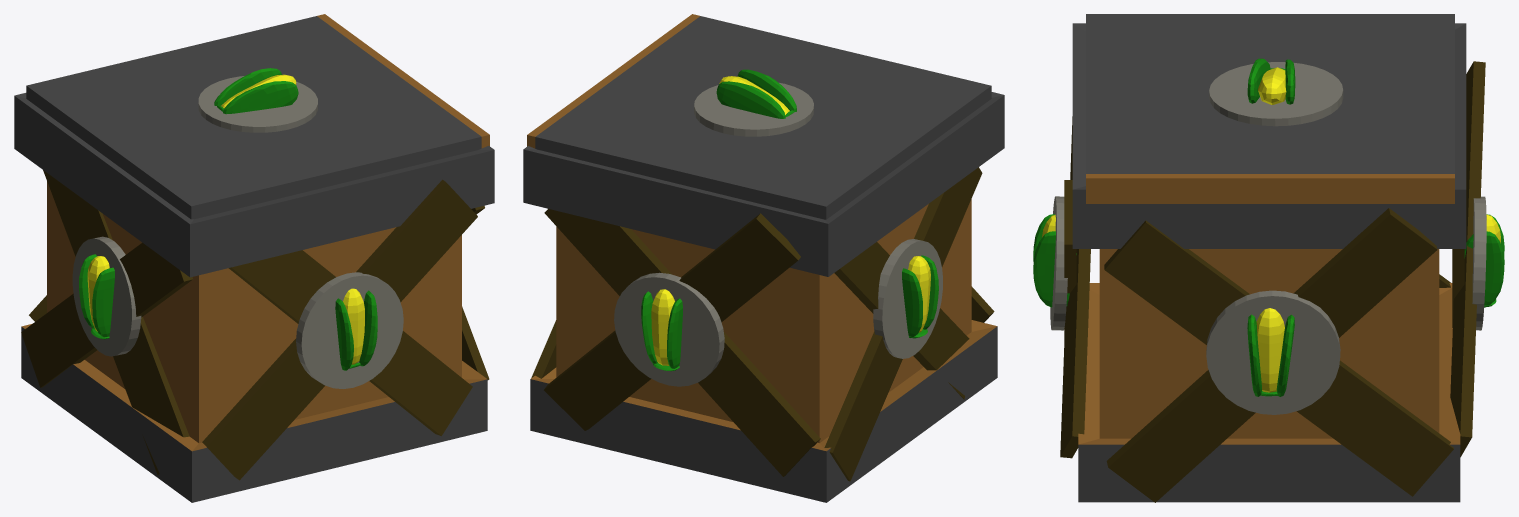
The model's file is crate_corn_full.fbx.
3 views of the same model, side by side, from view 1: azimuth 30°, elevation 25°; view 2: azimuth 150°, elevation 25°; view 3: azimuth 270°, elevation 25° (orthographic). The views are drawn at different scales.
Parts seen in each view (by area): view 1: Crate, Lid, Cube.004, Cube.003, Cylinder.001, Cube.005, Cube.006, Cylinder.003, Cylinder.004, Cube.010, Cube.021, Cube.013 (+6 smaller); view 2: Crate, Lid, Cube.001, Cube.002, Cube.005, Cylinder, Cylinder.003, Cube.006, Cylinder.004, Cube.009, Cube.014, Cube.020 (+6 smaller); view 3: Crate, Lid, Cube.008, Cube.007, Cylinder.002, Cube.002, Cylinder.004, Cube.003, Cube.023, Cylinder, Cylinder.001, Cube.011 (+7 smaller).
Part boxes in pixels (x1=…): Crate: x1=14, y1=93, x2=494, y2=502; Lid: x1=26, y1=14, x2=489, y2=219; Cube.004: x1=202, y1=179, x2=477, y2=480; Cube.003: x1=228, y1=250, x2=472, y2=435; Cylinder.001: x1=296, y1=272, x2=403, y2=388; Cube.005: x1=21, y1=242, x2=192, y2=387; Cube.006: x1=43, y1=170, x2=189, y2=474; Cylinder.003: x1=72, y1=236, x2=141, y2=356; Cylinder.004: x1=198, y1=76, x2=317, y2=132; Cube.010: x1=223, y1=81, x2=298, y2=114; Cube.021: x1=92, y1=267, x2=114, y2=337; Cube.013: x1=343, y1=288, x2=364, y2=364; Crate: x1=523, y1=92, x2=1004, y2=502; Lid: x1=527, y1=14, x2=991, y2=219; Cube.001: x1=544, y1=209, x2=820, y2=476; Cube.002: x1=544, y1=213, x2=800, y2=430; Cube.005: x1=824, y1=167, x2=982, y2=481; Cylinder: x1=614, y1=272, x2=724, y2=386; Cylinder.003: x1=873, y1=239, x2=942, y2=358; Cube.006: x1=834, y1=242, x2=969, y2=399; Cylinder.004: x1=694, y1=82, x2=813, y2=136; Cube.009: x1=716, y1=81, x2=785, y2=118; Cube.014: x1=651, y1=289, x2=674, y2=365; Cube.020: x1=902, y1=268, x2=922, y2=337; Crate: x1=1072, y1=23, x2=1466, y2=502; Lid: x1=1086, y1=14, x2=1454, y2=203; Cube.008: x1=1104, y1=220, x2=1453, y2=496; Cube.007: x1=1106, y1=208, x2=1437, y2=502; Cylinder.002: x1=1206, y1=290, x2=1340, y2=414; Cube.002: x1=1450, y1=61, x2=1485, y2=457; Cylinder.004: x1=1209, y1=62, x2=1343, y2=126; Cube.003: x1=1060, y1=116, x2=1090, y2=458; Cube.023: x1=1256, y1=308, x2=1284, y2=392; Cylinder: x1=1472, y1=196, x2=1486, y2=330; Cylinder.001: x1=1050, y1=196, x2=1067, y2=330; Cube.011: x1=1033, y1=231, x2=1076, y2=307.
Size of the model in its own units: 913 by 792 by 932.
